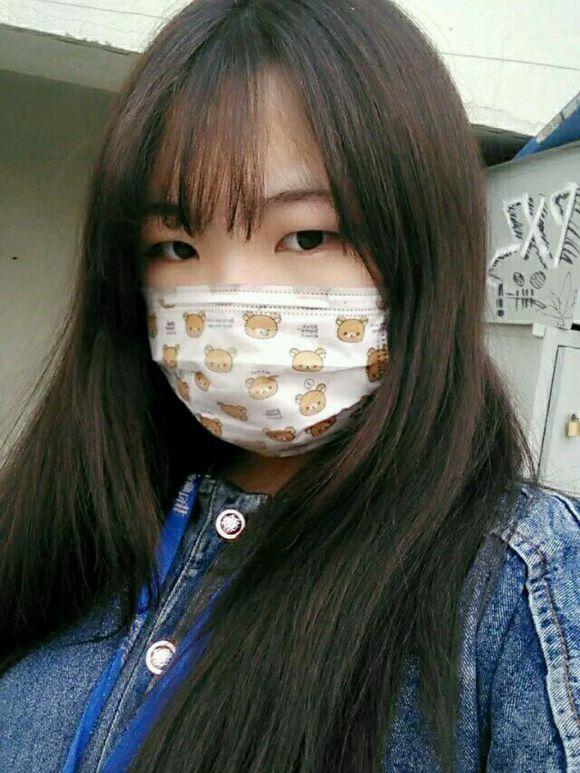OK: (144, 180, 397, 455)
